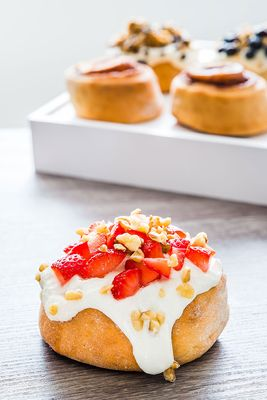sushi: (35, 208, 229, 381), (170, 62, 267, 137), (64, 54, 164, 124)
